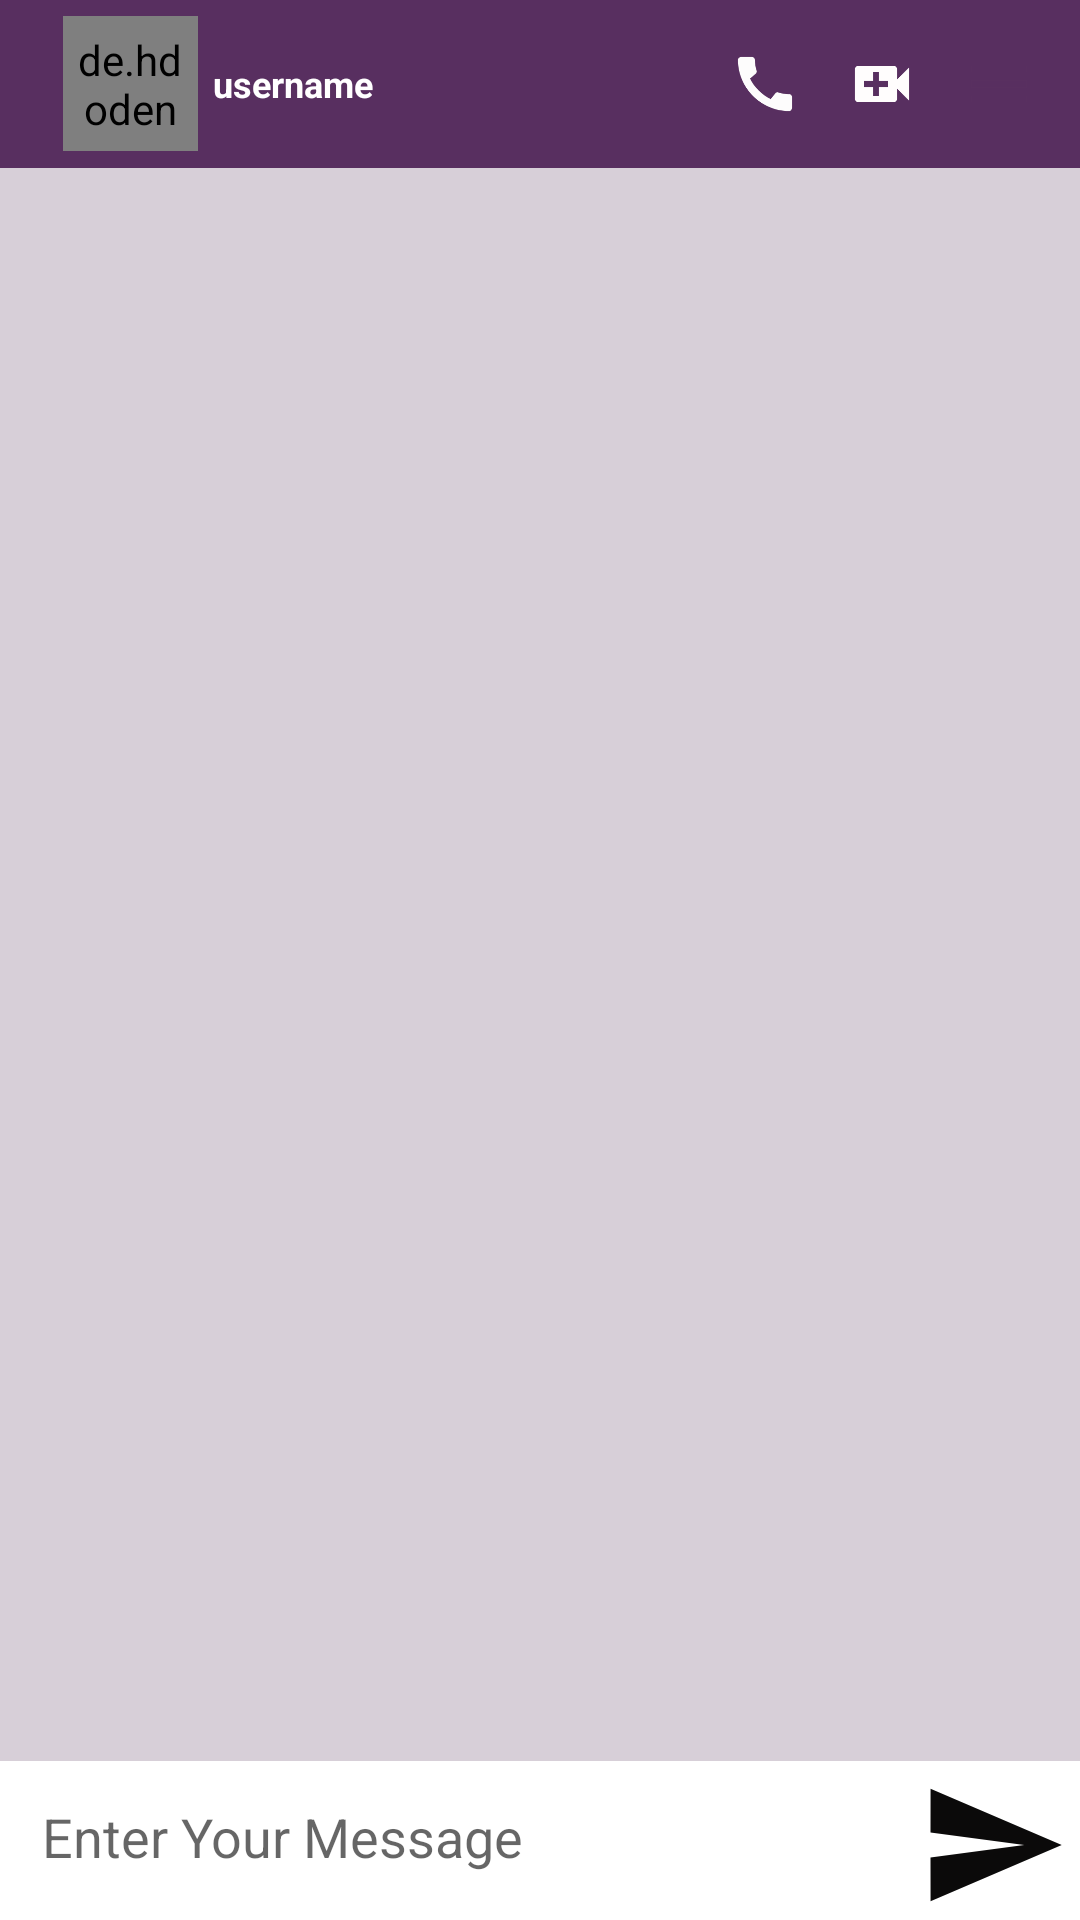

Named icons in this screenshot (1080*1920) and their centers, [x,y]:
call: [765,84]
send: [996,1845]
